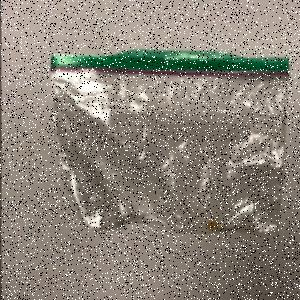Trash: (51, 50, 291, 238)
